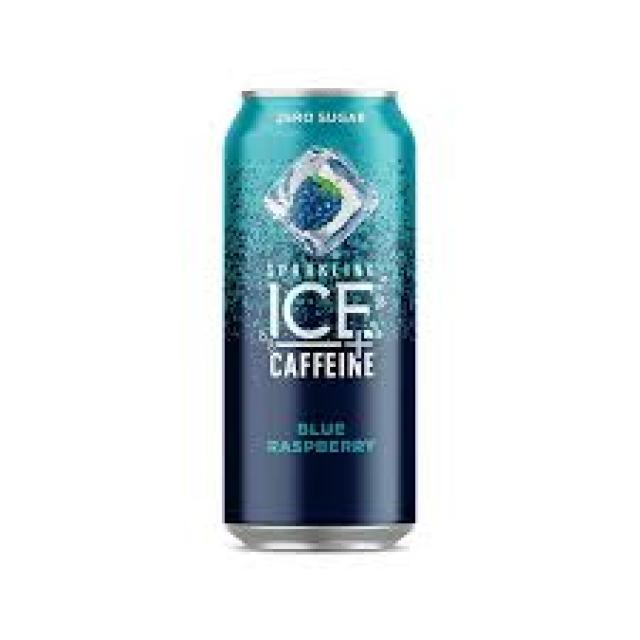Cans: (213, 74, 432, 563)
